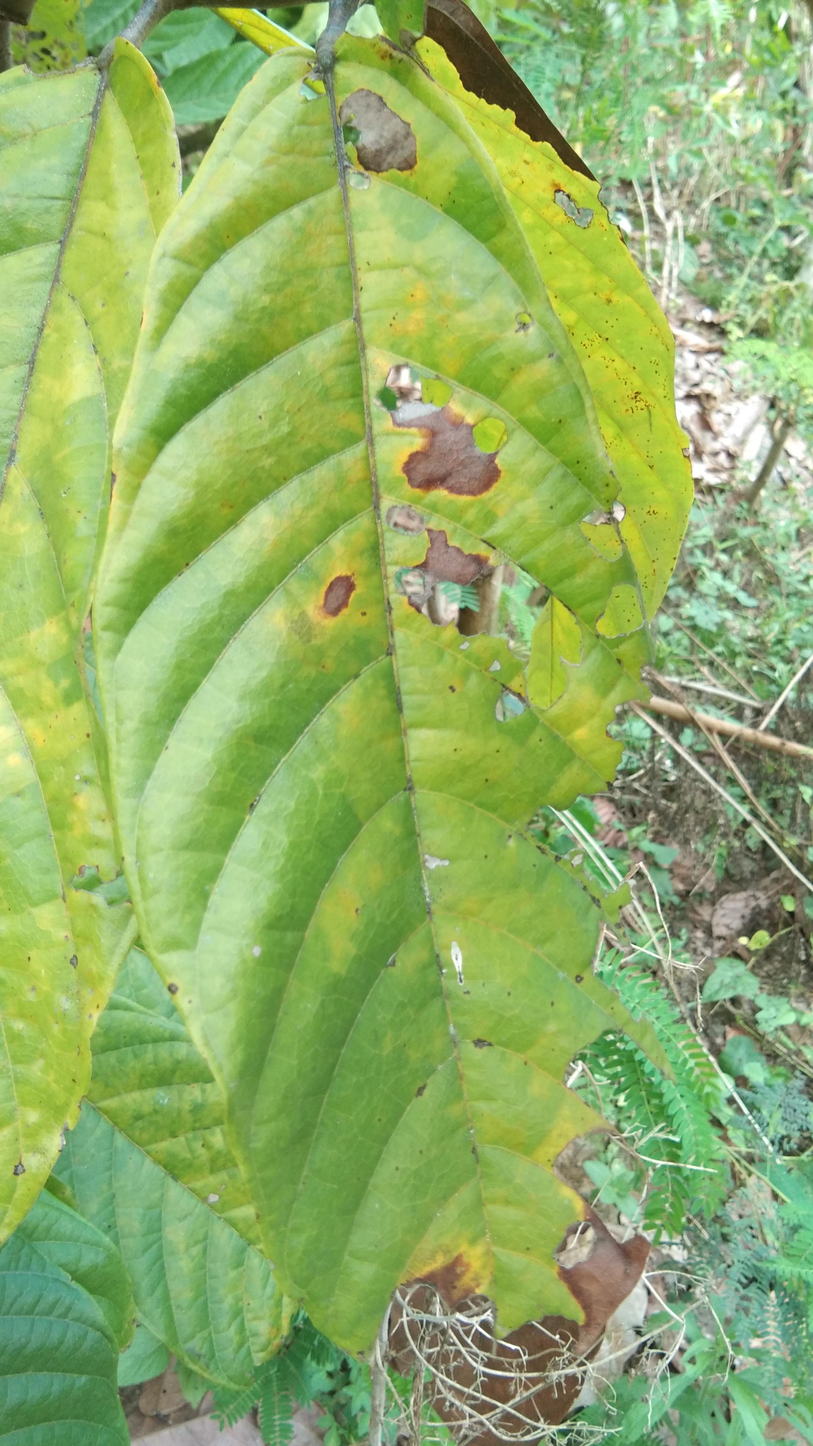deficiencia_potasio: (108, 21, 615, 1383)
